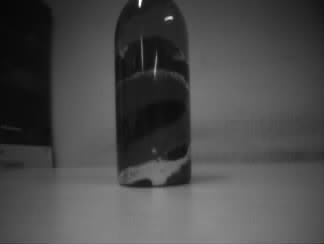Bottle: (114, 1, 192, 188)
